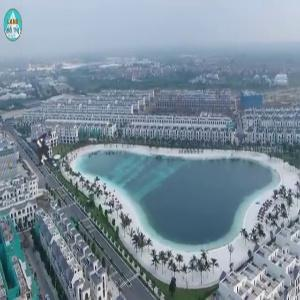drone: (5, 109, 88, 192)
